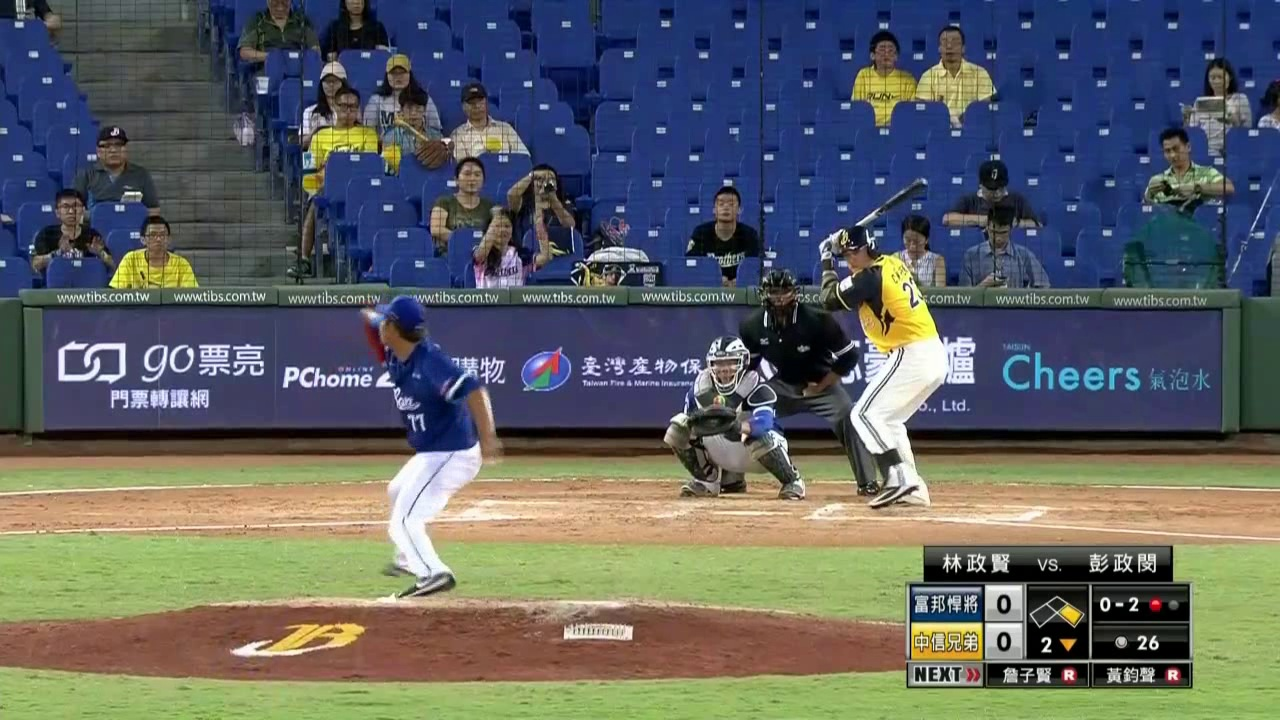ball: (480, 452, 499, 470)
base: (1027, 591, 1087, 627)
bat: (825, 173, 930, 242)
out: (1146, 587, 1184, 616)
score1: (986, 587, 1020, 619)
score2: (987, 625, 1020, 657)
session: (1028, 630, 1086, 656)
strikeball: (1094, 587, 1143, 616)
total: (1094, 628, 1184, 657)
